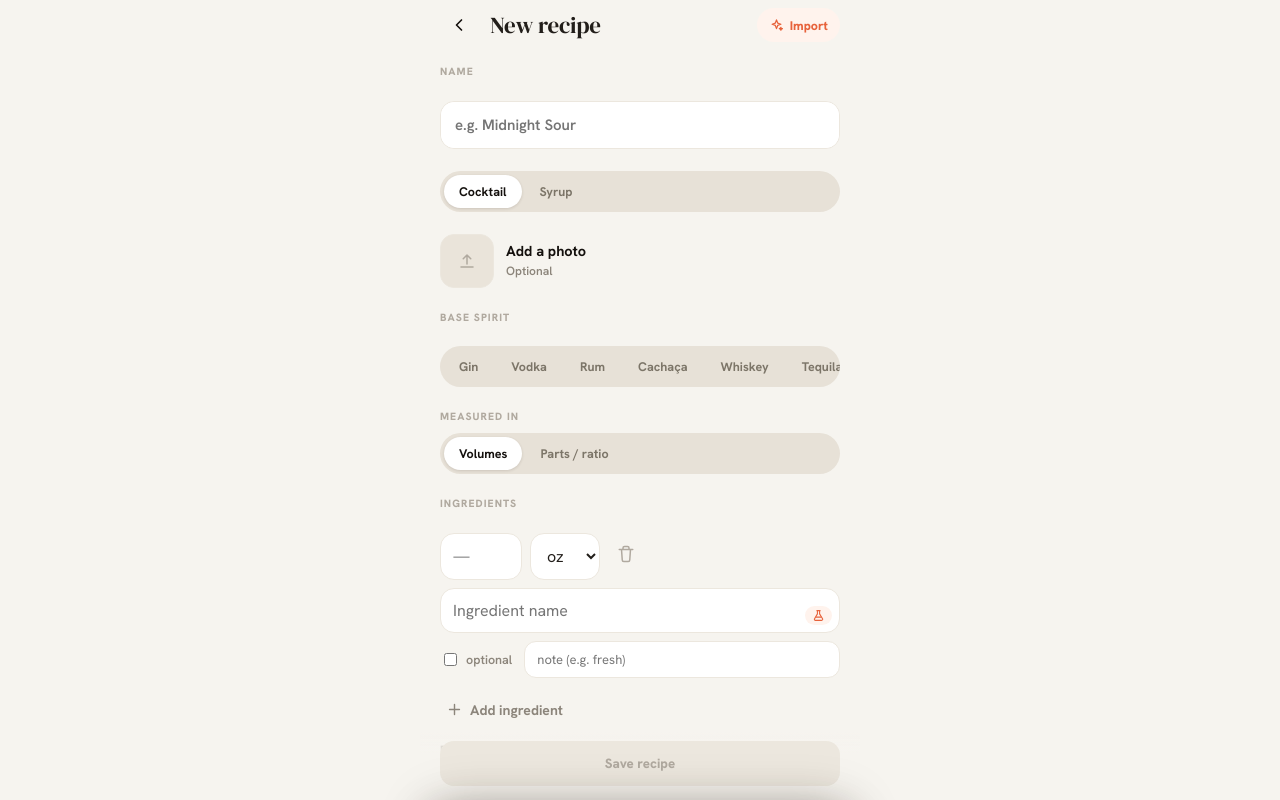
it: paste to fill › surfaces an extraction error and keeps the pasted text
The image size is (1280, 800).
Click the button with aria-label "paste a recipe to fill this in" at [798, 25], box [757,8,840,42]
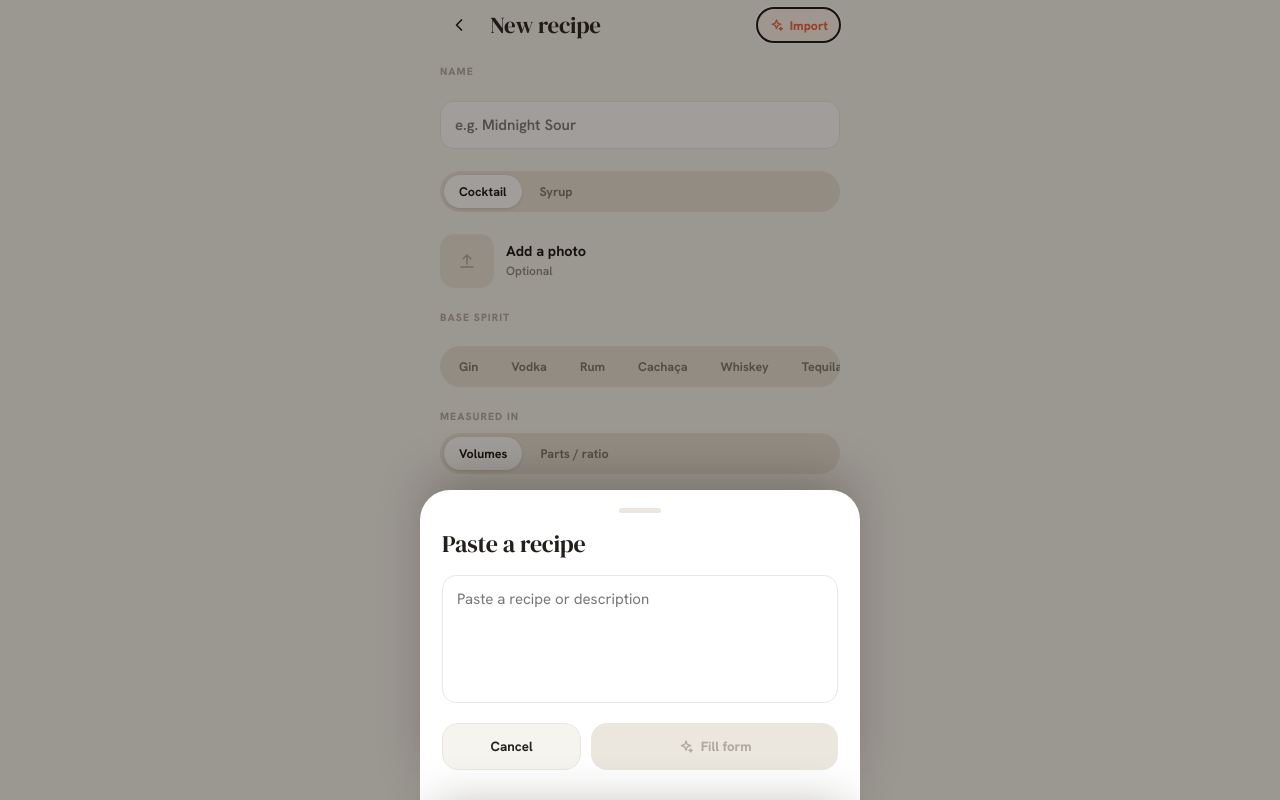
Type "junk" into the text box with placeholder "Paste a recipe or description" at [640, 639], box [442,575,838,703]
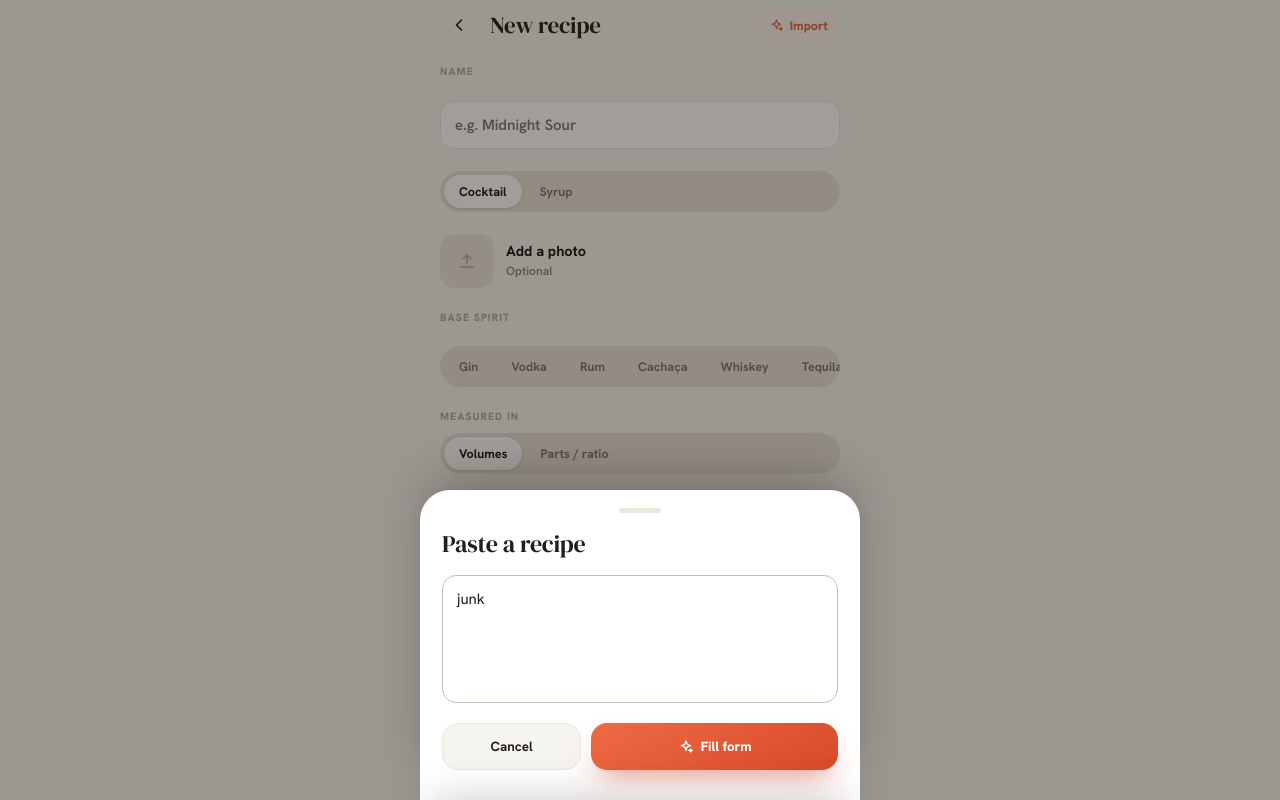
Click the button "Fill form" at [715, 746], box [591,723,838,770]
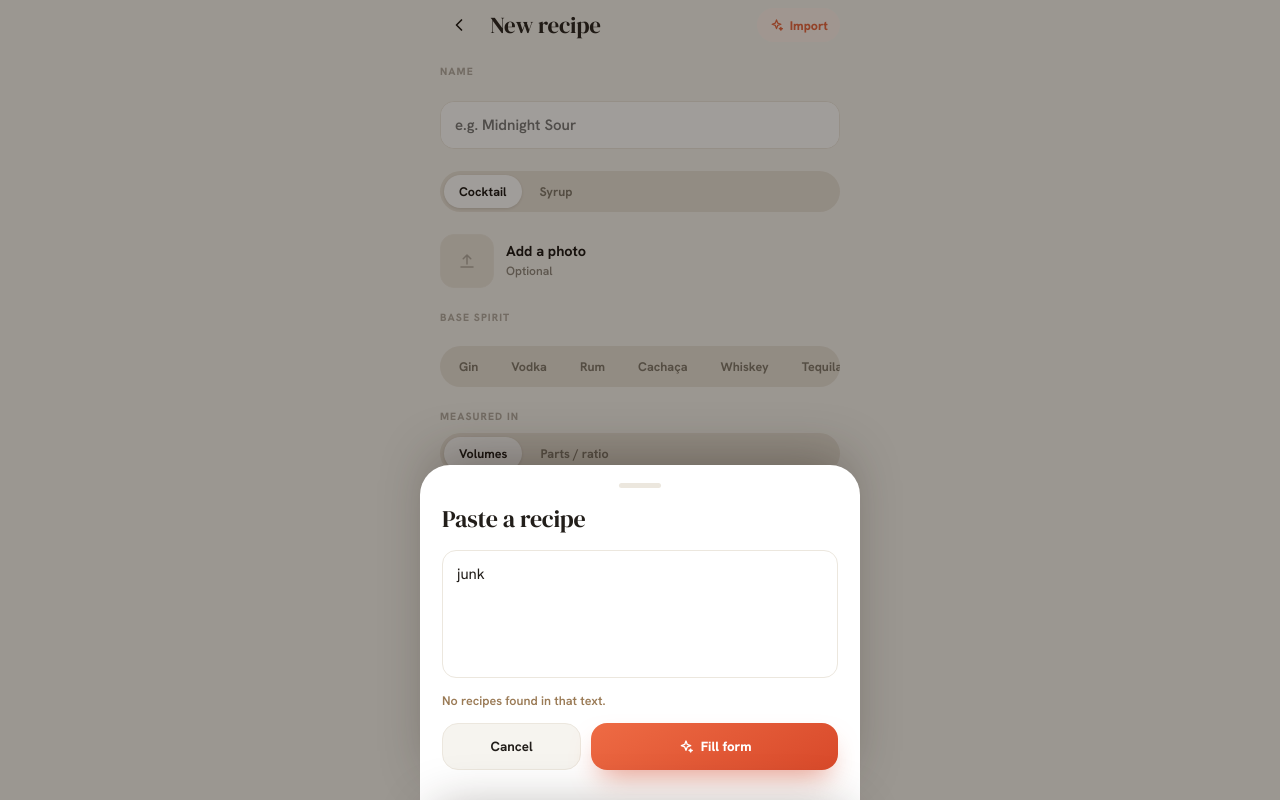
Check: the text "No recipes found in that text." is shown, box [442,692,605,708]
